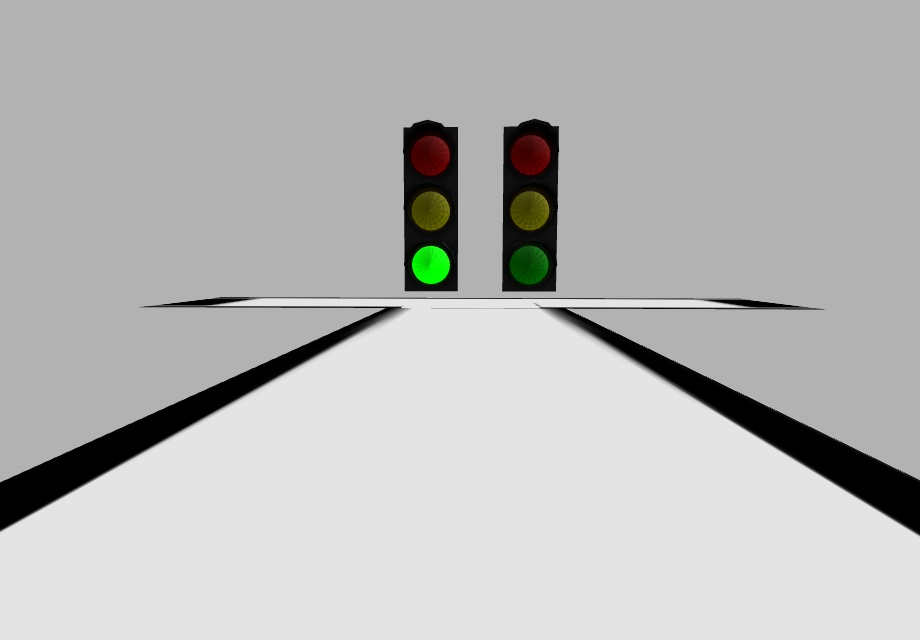green_off: (510, 247, 547, 288)
green_on: (410, 242, 449, 283)
